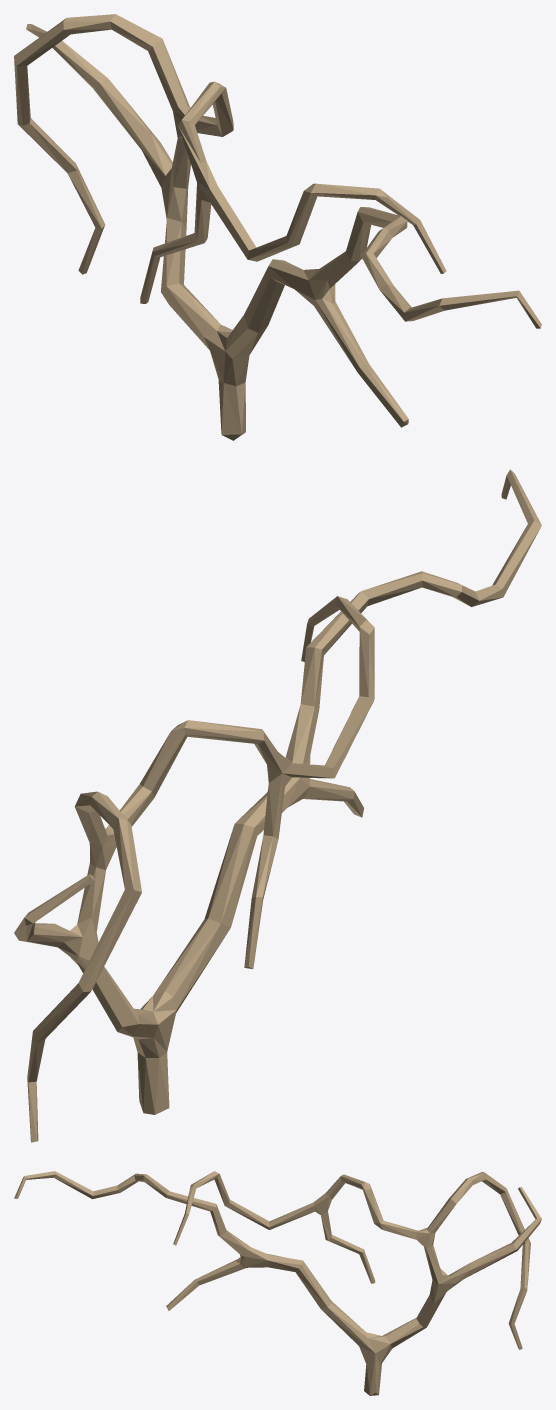
The model's file is LightWoodDecorationMediumClimbingBranches1.fbx.
3 renders of one model, top to bottom at view 1: azimuth 30°, elevation 25°; view 2: azimuth 150°, elevation 25°; view 3: azimuth 270°, elevation 25°, orthographic. The views are drawn at different scales.
Parts seen in each view (by area): view 1: LightWoodDecorationMediumClimbingBranches1; view 2: LightWoodDecorationMediumClimbingBranches1; view 3: LightWoodDecorationMediumClimbingBranches1.
Boxes of the visible parts, bbox=[...] form: LightWoodDecorationMediumClimbingBranches1: bbox=[14, 14, 541, 440]; LightWoodDecorationMediumClimbingBranches1: bbox=[14, 469, 541, 1142]; LightWoodDecorationMediumClimbingBranches1: bbox=[14, 1171, 541, 1395].
Size of the model in its own units: 167 by 433 by 971.
